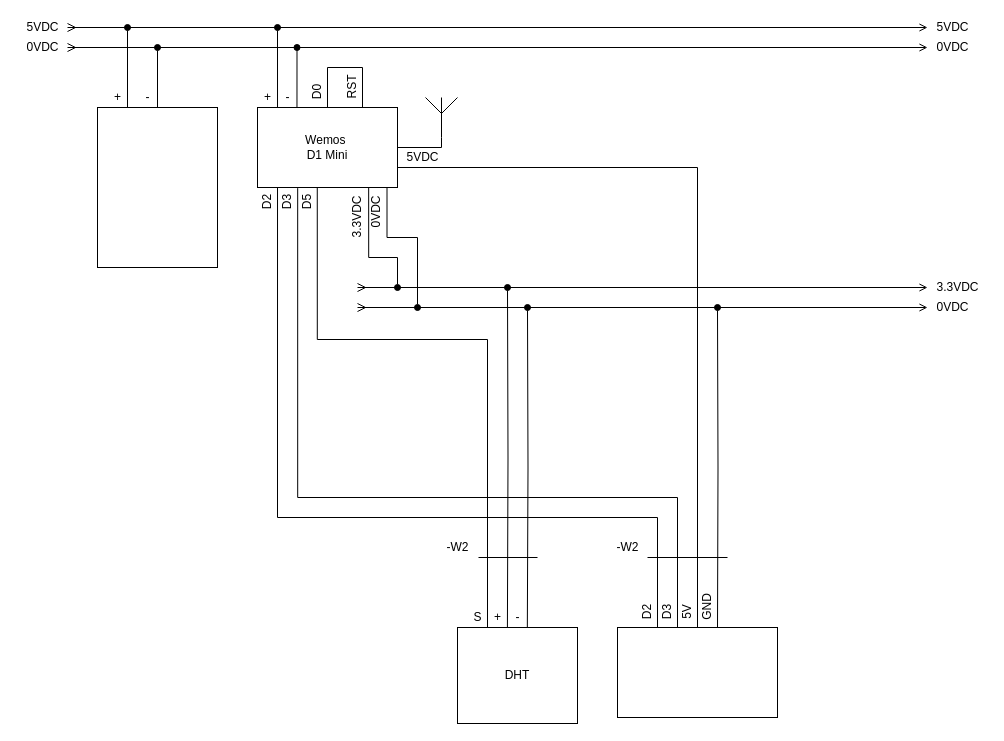
The diagram is 1004 pixels wide and 741 high, and some of its shapes have lost their labels. Each missing label, with the centre of its shape:
5V Li-Ion Battery: pixel 157 187
RFID Reader: pixel 697 672
